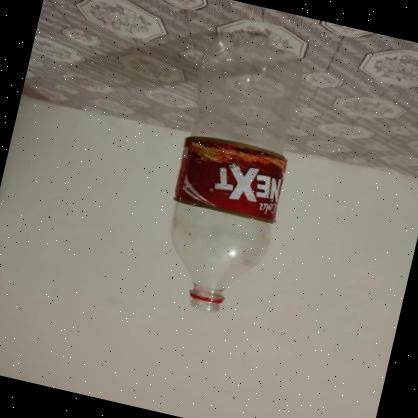bottle: (149, 26, 317, 322)
label: (167, 130, 292, 229)
